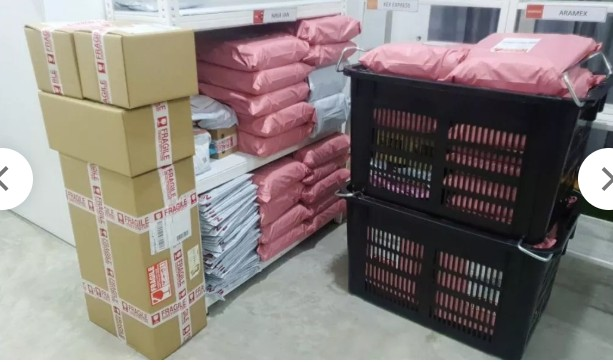bulk_waste: (344, 34, 612, 243), (348, 197, 577, 358), (61, 156, 206, 358), (39, 92, 193, 175), (75, 24, 197, 108), (25, 20, 106, 98), (197, 33, 308, 71), (199, 81, 308, 117), (198, 62, 312, 95), (239, 102, 314, 137), (252, 157, 308, 201), (294, 133, 349, 168), (294, 15, 360, 44)
